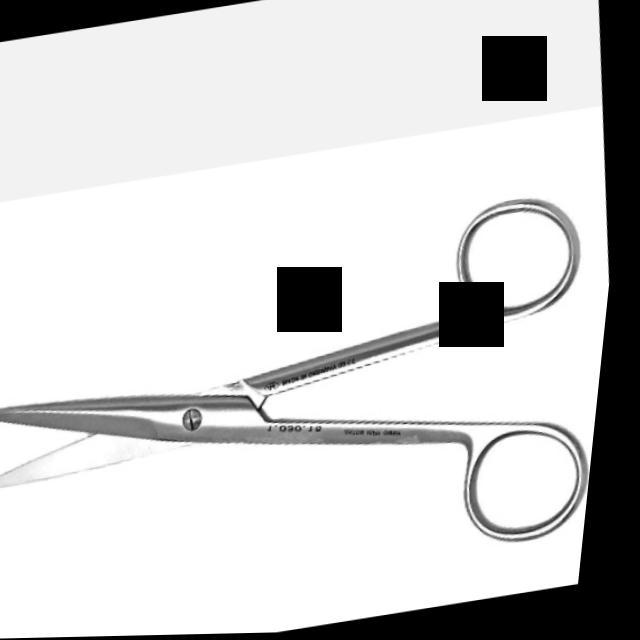Straight Mayo: (0, 188, 624, 632)
